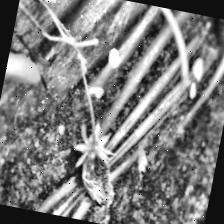Gray Mold: (64, 120, 128, 208)
